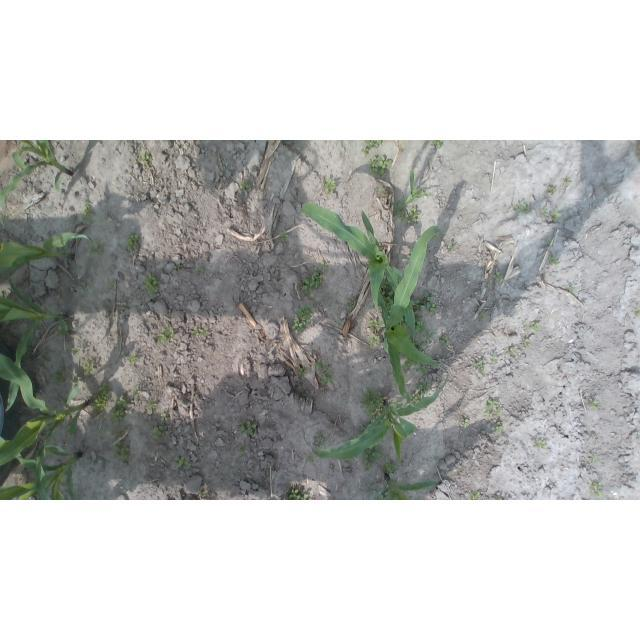Maize: (301, 201, 418, 346), (365, 225, 450, 415), (302, 370, 451, 469), (0, 353, 90, 499), (0, 280, 70, 413), (2, 415, 83, 499), (1, 141, 76, 228), (0, 231, 98, 284), (368, 470, 441, 500)
Weeds: (359, 426, 384, 471), (302, 261, 329, 295), (361, 389, 387, 420), (112, 430, 132, 464), (290, 306, 313, 335), (378, 277, 396, 313), (416, 322, 437, 351), (92, 382, 110, 414), (370, 154, 395, 177), (409, 380, 434, 403), (366, 319, 386, 347), (50, 370, 75, 391), (401, 358, 430, 376), (419, 291, 438, 316), (152, 412, 168, 440), (112, 394, 128, 422), (398, 206, 421, 224), (485, 399, 503, 420), (144, 276, 161, 296), (511, 199, 531, 215), (361, 140, 383, 154), (588, 480, 603, 500), (316, 367, 332, 385), (238, 420, 256, 436), (313, 434, 331, 450), (157, 327, 174, 343), (287, 489, 310, 500), (126, 235, 140, 252), (322, 177, 336, 193), (82, 359, 95, 376), (88, 242, 104, 255), (84, 199, 93, 222), (192, 325, 212, 335), (138, 150, 152, 164), (550, 206, 562, 222), (238, 181, 252, 194), (546, 254, 560, 267), (473, 361, 486, 375), (523, 320, 540, 330), (490, 422, 503, 435), (429, 141, 443, 152), (492, 269, 503, 283), (537, 438, 548, 451), (176, 457, 189, 467), (386, 460, 397, 471), (79, 283, 90, 294), (547, 185, 557, 197), (279, 230, 288, 243), (377, 492, 390, 501), (587, 400, 600, 409), (562, 177, 572, 188), (439, 335, 449, 346), (127, 355, 137, 366), (540, 207, 550, 217), (521, 336, 530, 347), (345, 295, 352, 309), (192, 266, 204, 274), (461, 418, 470, 428), (132, 387, 141, 397), (491, 354, 498, 366), (468, 493, 480, 500), (150, 404, 159, 413), (567, 285, 576, 293), (634, 308, 640, 319), (508, 347, 516, 355), (238, 446, 245, 455), (70, 348, 81, 353), (479, 312, 485, 321), (590, 455, 596, 462), (378, 188, 386, 193)
